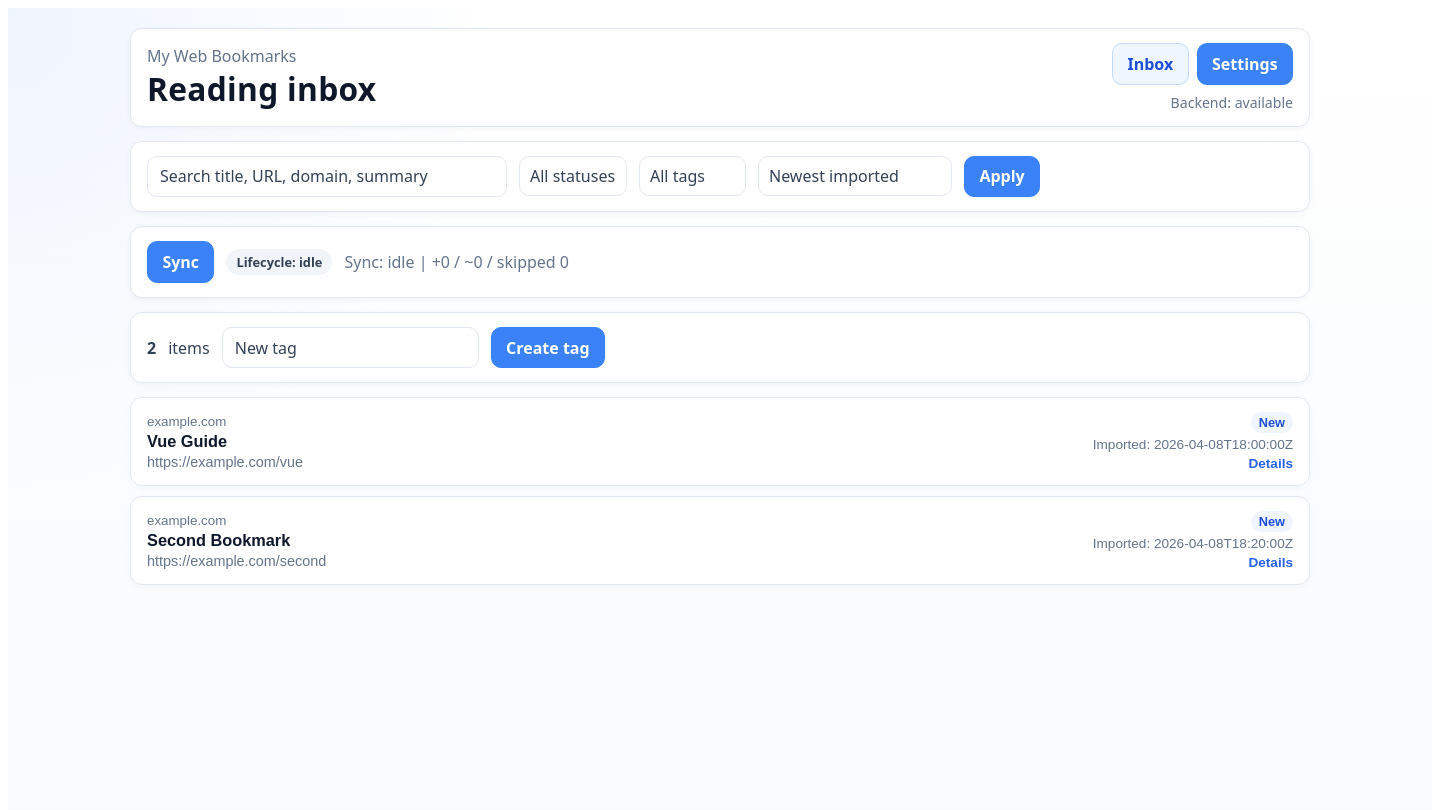
Test: App › keeps settings controls on settings view and out of inbox view
Click the button "Settings": (1245, 64) [1197,43,1293,85]
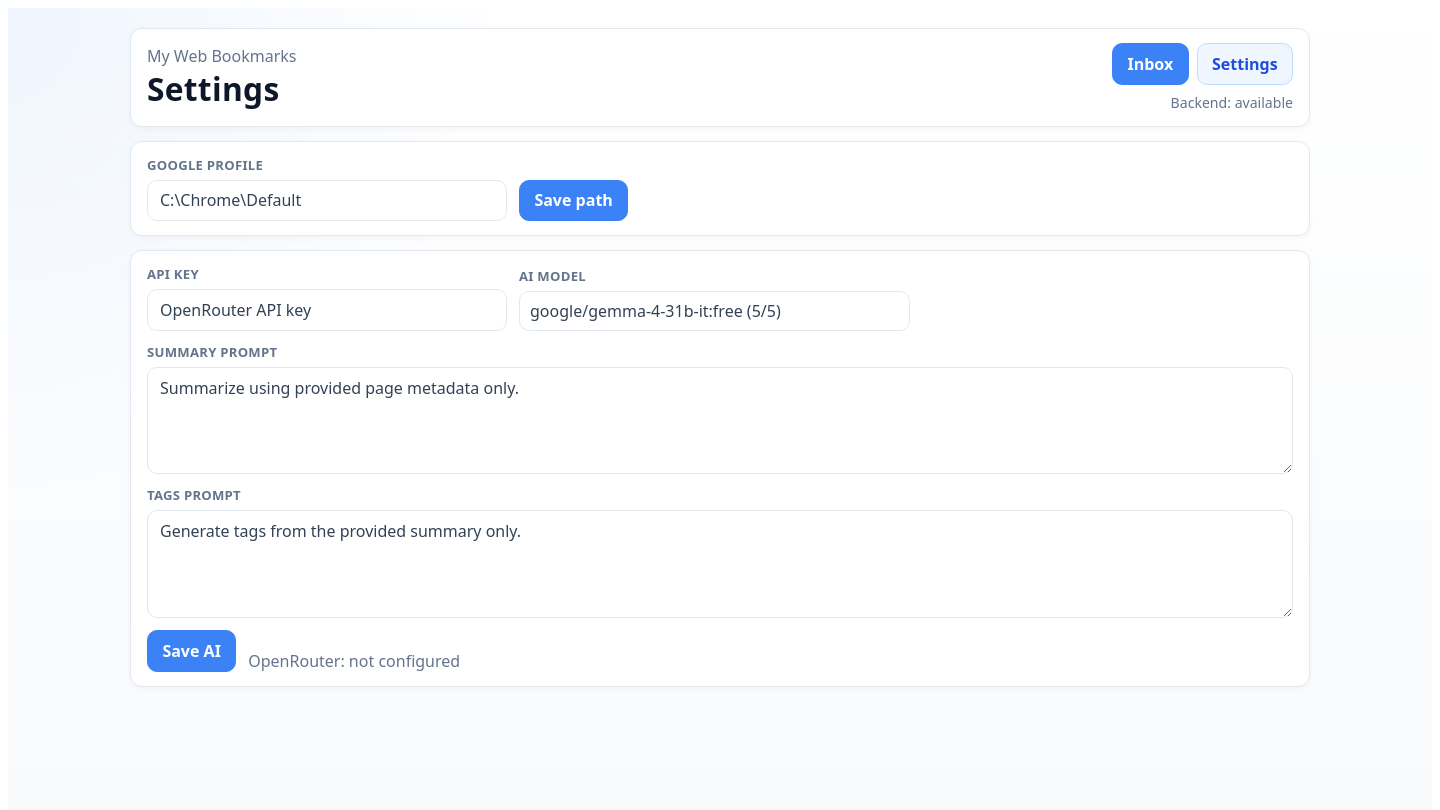
Expected: the text "Google profile" is shown, [147,156,263,174]
Expected: the text "API key" is shown, [147,265,199,283]
Expected: the text "AI model" is shown, [519,267,586,285]
